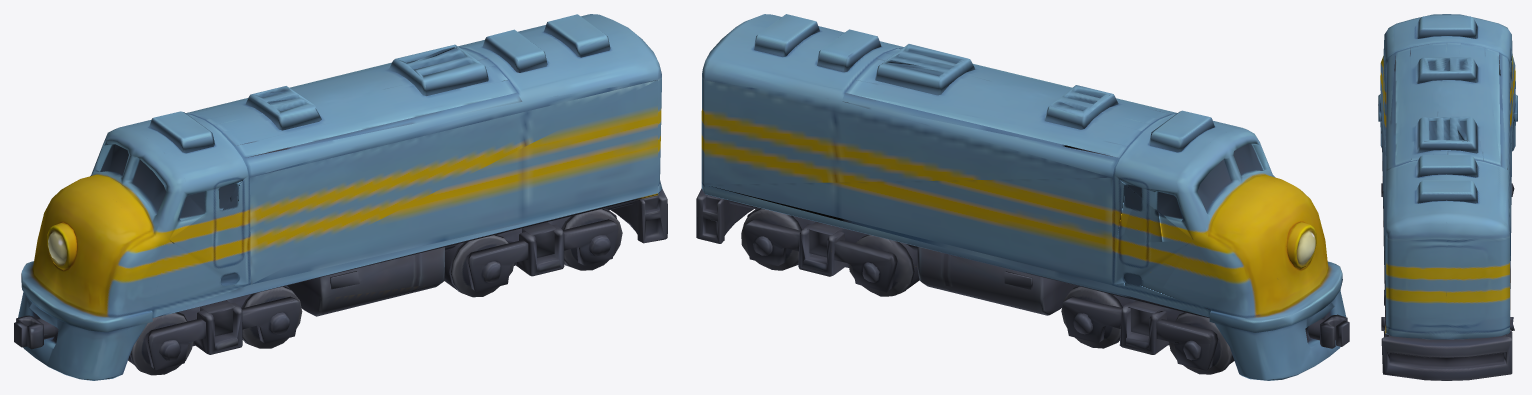
The model's file is train_loco.glb.
3 renders of one model, left to right at view 1: azimuth 30°, elevation 25°; view 2: azimuth 150°, elevation 25°; view 3: azimuth 270°, elevation 25°, orthographic. The views are drawn at different scales.
Visible parts, largest first — view 1: geometry_0; view 2: geometry_0; view 3: geometry_0.
Part boxes in pixels (x1=…): geometry_0: x1=14, y1=14, x2=667, y2=380; geometry_0: x1=696, y1=14, x2=1349, y2=380; geometry_0: x1=1378, y1=14, x2=1517, y2=380.
Bounding box in the file's own units: 0.9575 × 0.3203 × 0.2168.
1 material, 1 textured.
